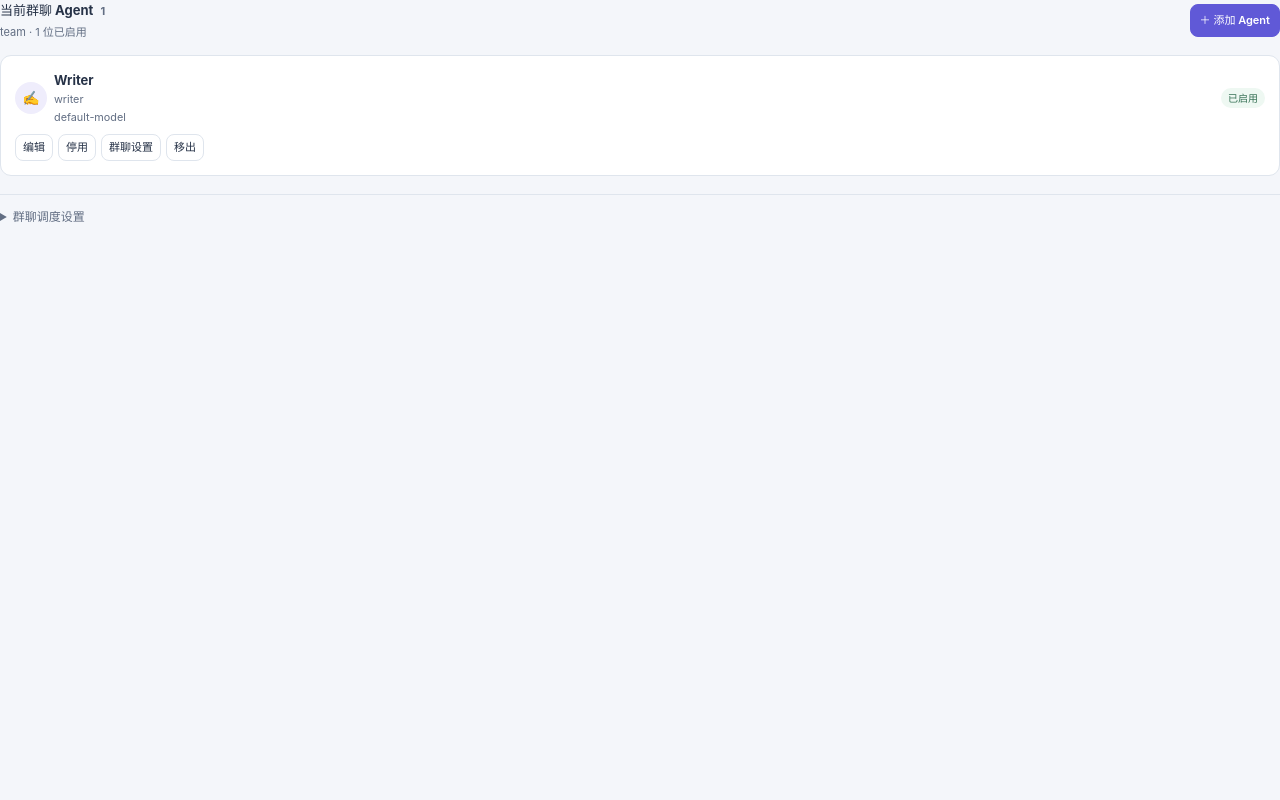
Test: shows only current Channel members and keeps creation and recommendations inside the add dialog
Expected: the text "Writer" is shown, [54,72,94,88]
Expected: the text "Reviewer" is not shown
Click the button "＋ 添加 Agent" at (1235, 21), box [1190,4,1279,38]
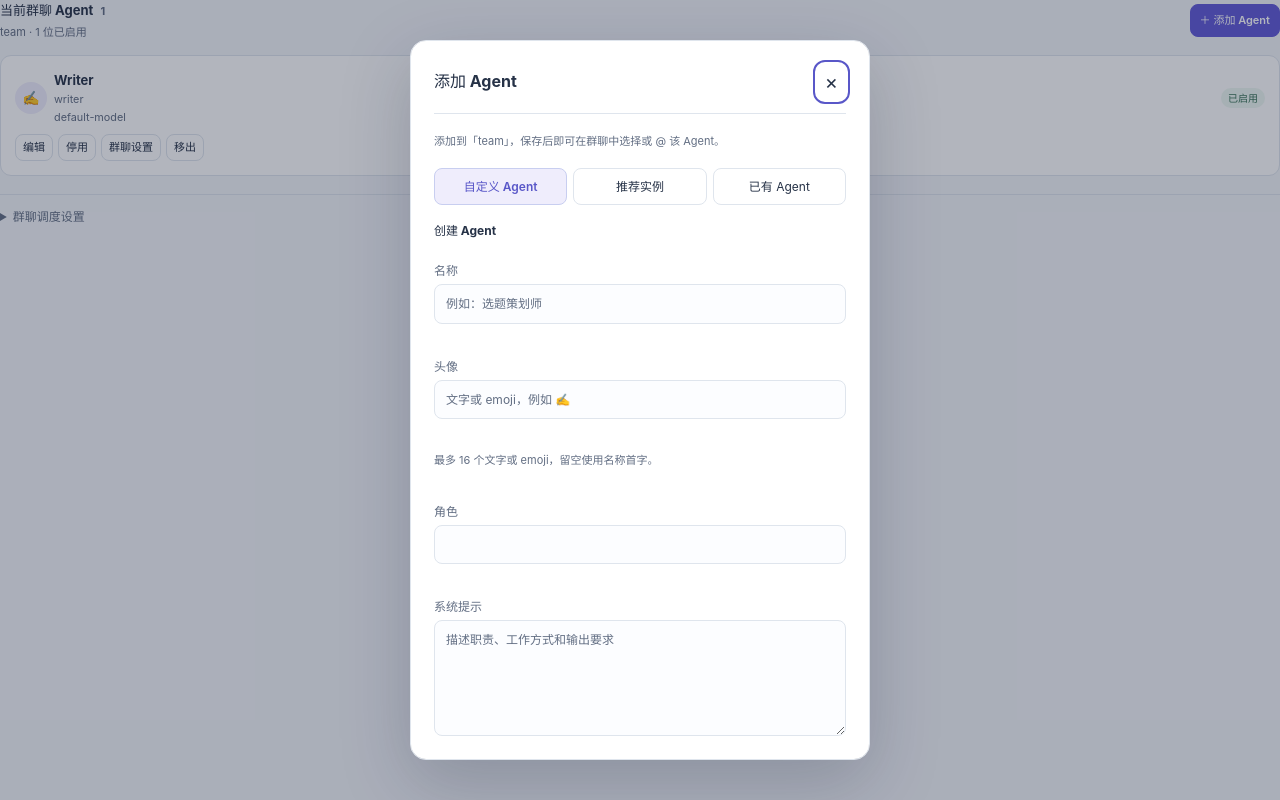
Result: the field named "Agent 名称" is shown at [434,284,846,324]
Click the button "已有 Agent" at (779, 186), box [713,168,846,205]
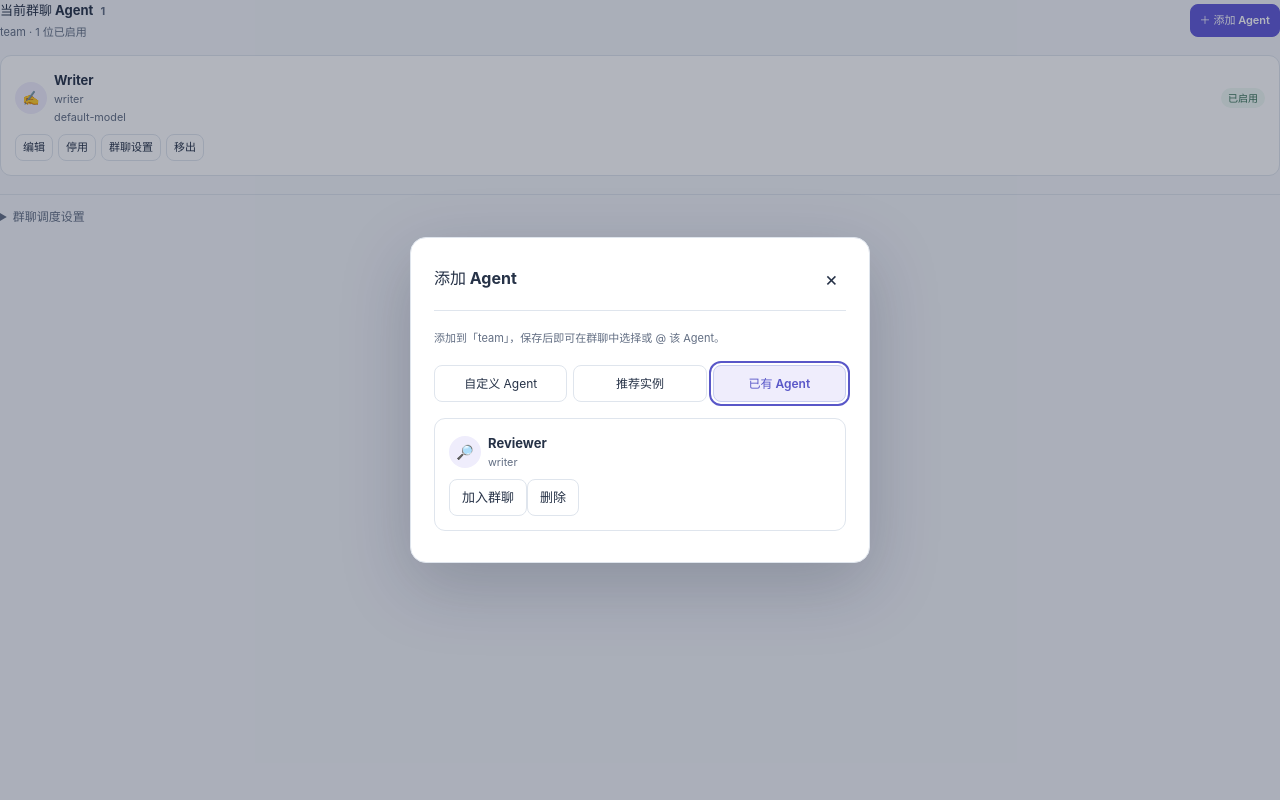
Result: the text "Reviewer" is shown at [488,435,547,451]
Click the button with aria-label "加入群聊：Reviewer" at (488, 498), box [449,479,527,516]
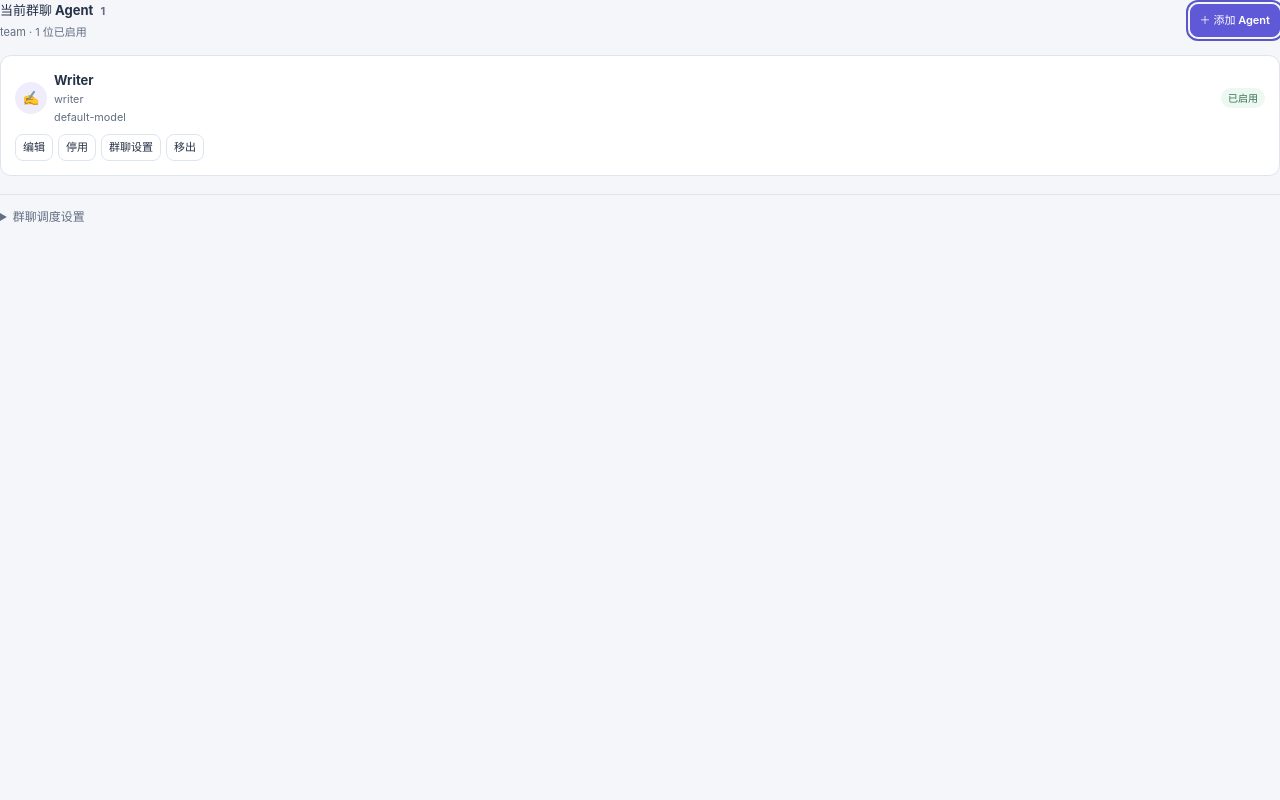
Result: the dialog is gone
